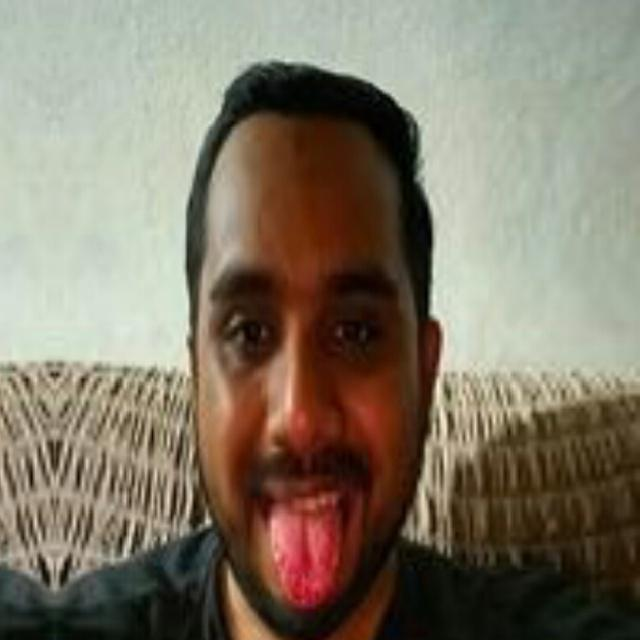happy: (133, 85, 486, 637)
